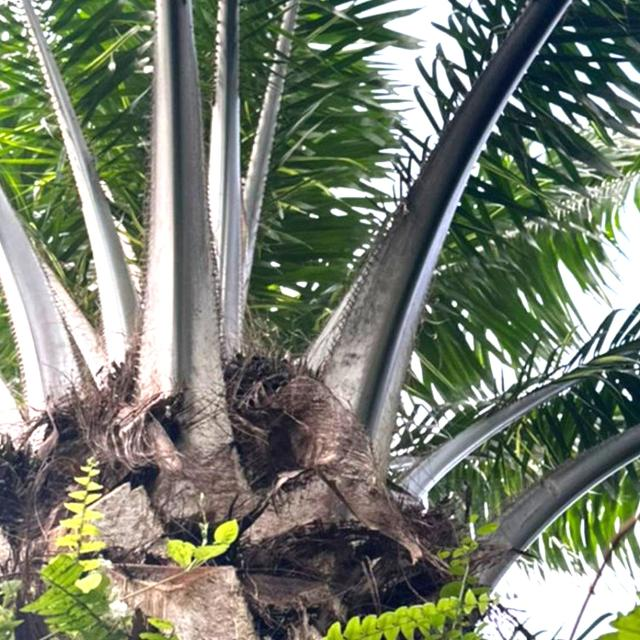unripe: (212, 332, 339, 459)
